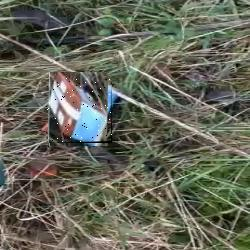restaffald: (46, 76, 112, 143)
